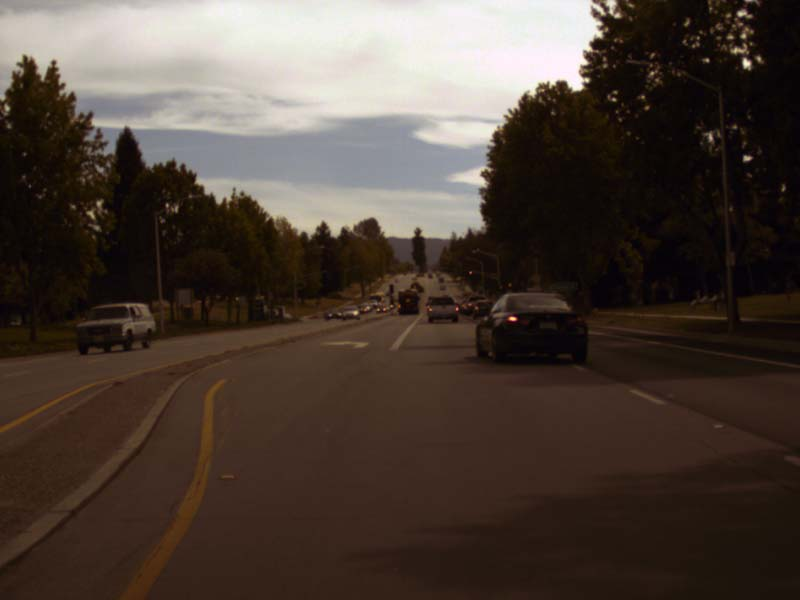Red: (467, 269, 472, 277)
Yellow: (507, 281, 512, 288)
